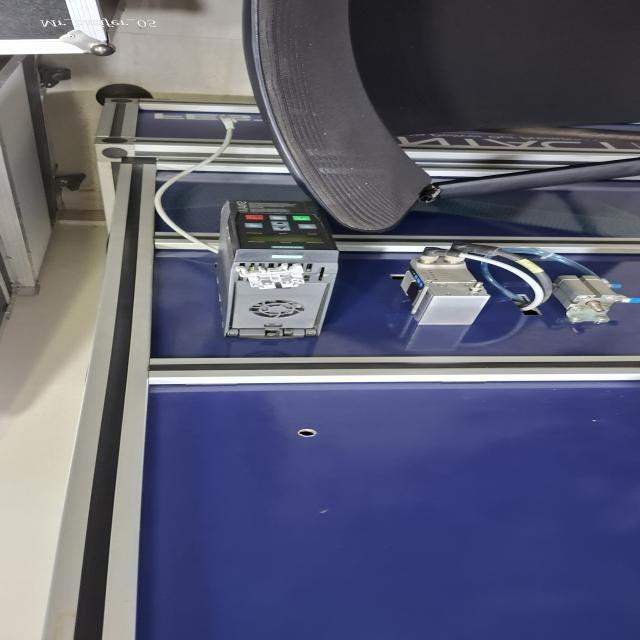Pass: (236, 263, 306, 290)
